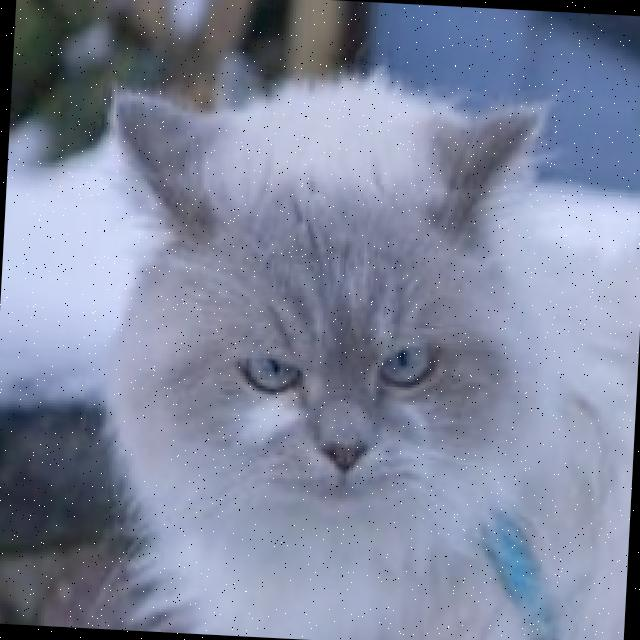Angry: (138, 227, 508, 556)
